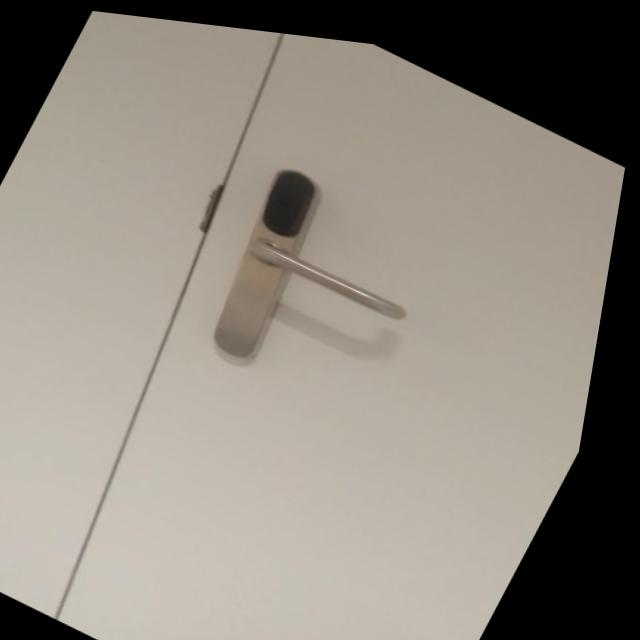door_handle: (222, 215, 446, 332)
